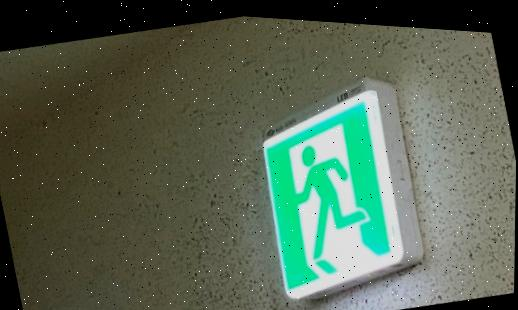emergency_exit: (261, 78, 425, 300)
